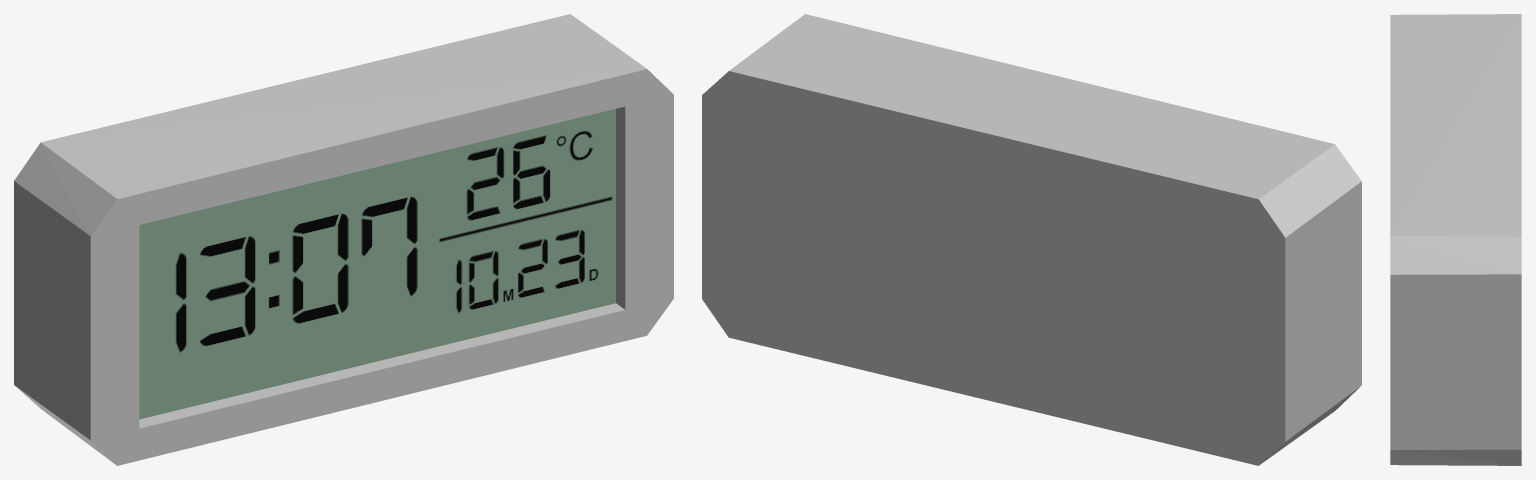
Rendered from DigitalClock_LOD2.fbx.
3 renders of one model, left to right at view 1: azimuth 30°, elevation 25°; view 2: azimuth 150°, elevation 25°; view 3: azimuth 270°, elevation 25°, orthographic. The views are drawn at different scales.
Parts seen in each view (by area): view 1: Cube; view 2: Cube; view 3: Cube.
Boxes of the visible parts, bbox=[...] form: Cube: bbox=[14, 14, 673, 465]; Cube: bbox=[702, 14, 1361, 465]; Cube: bbox=[1390, 14, 1521, 465].
Bounding box in the file's own units: 44 × 19.29 × 10.
